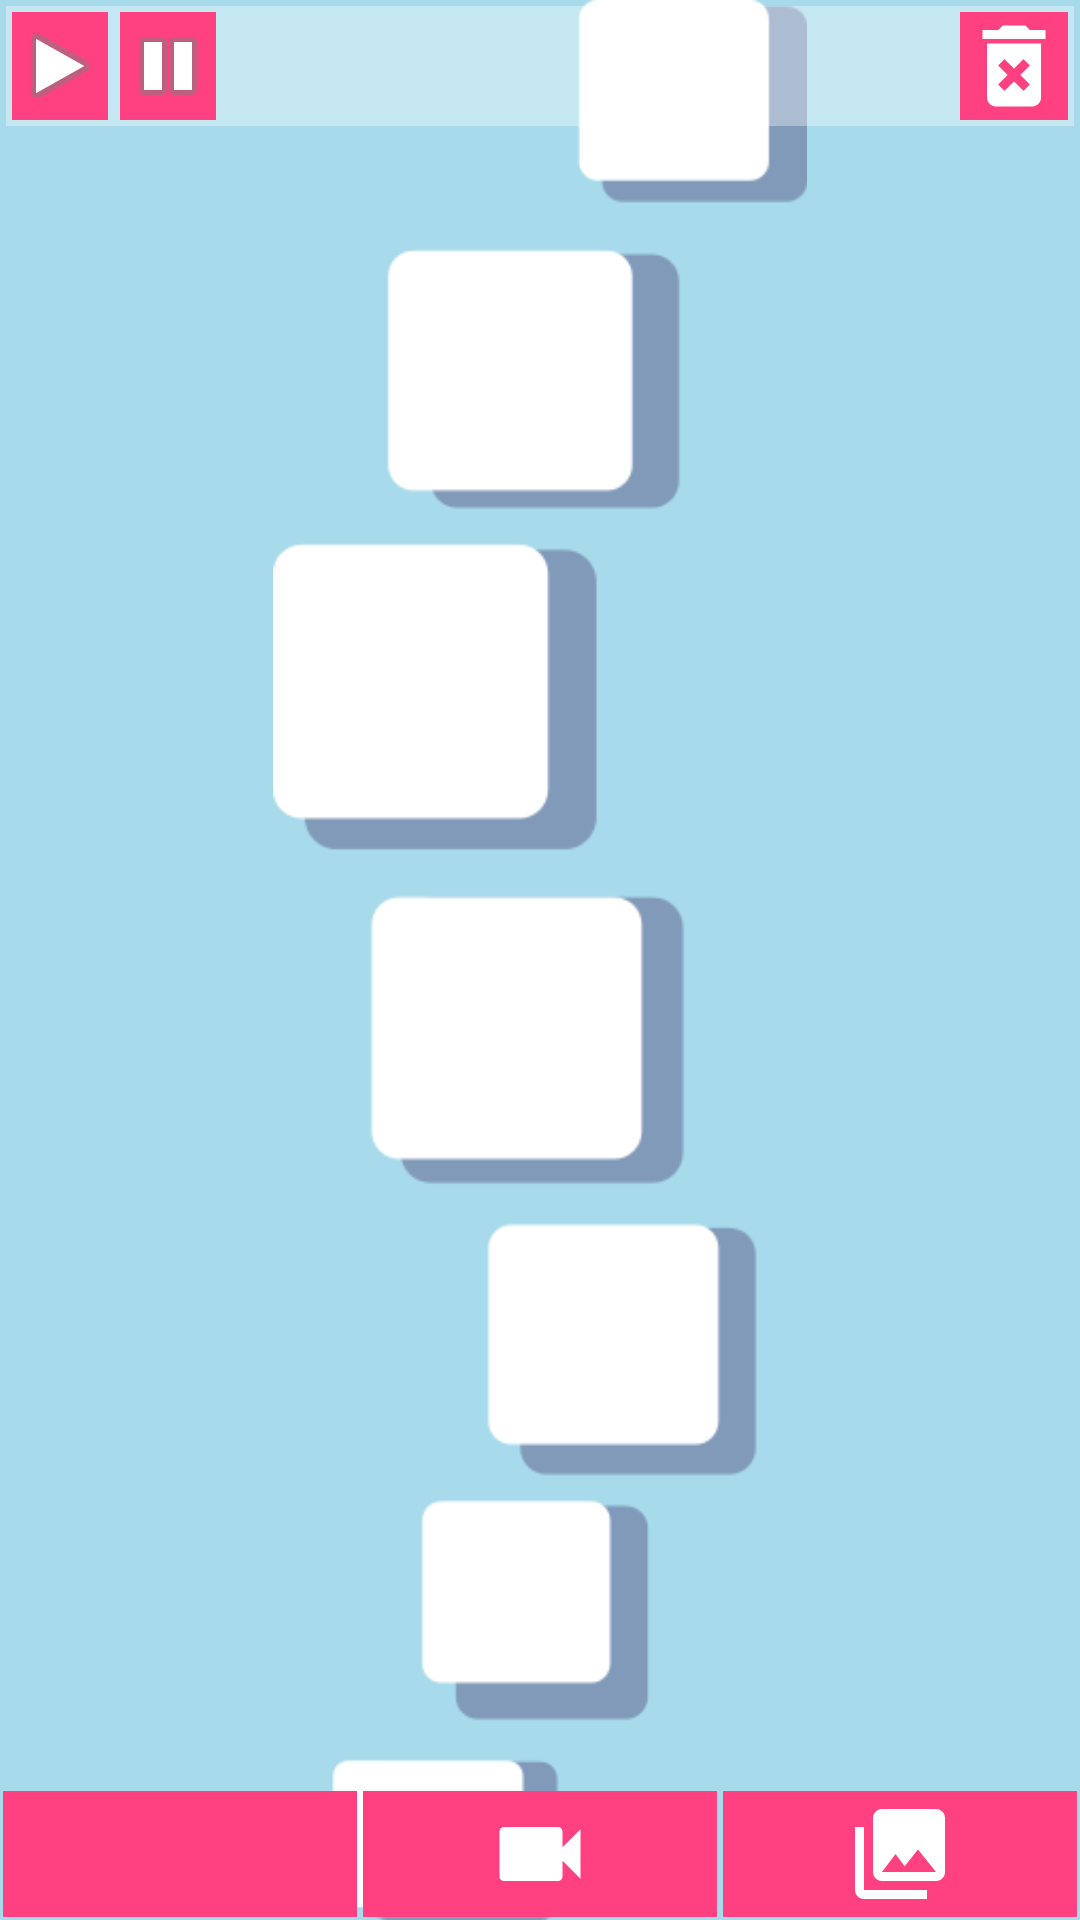

Icon click points for this 1080×1920 phone screenshot, format point (x, y):
collections: point (900, 1854)
delete forever: point (1014, 66)
pause: point (168, 66)
play: point (60, 66)
videocam: point (540, 1854)
